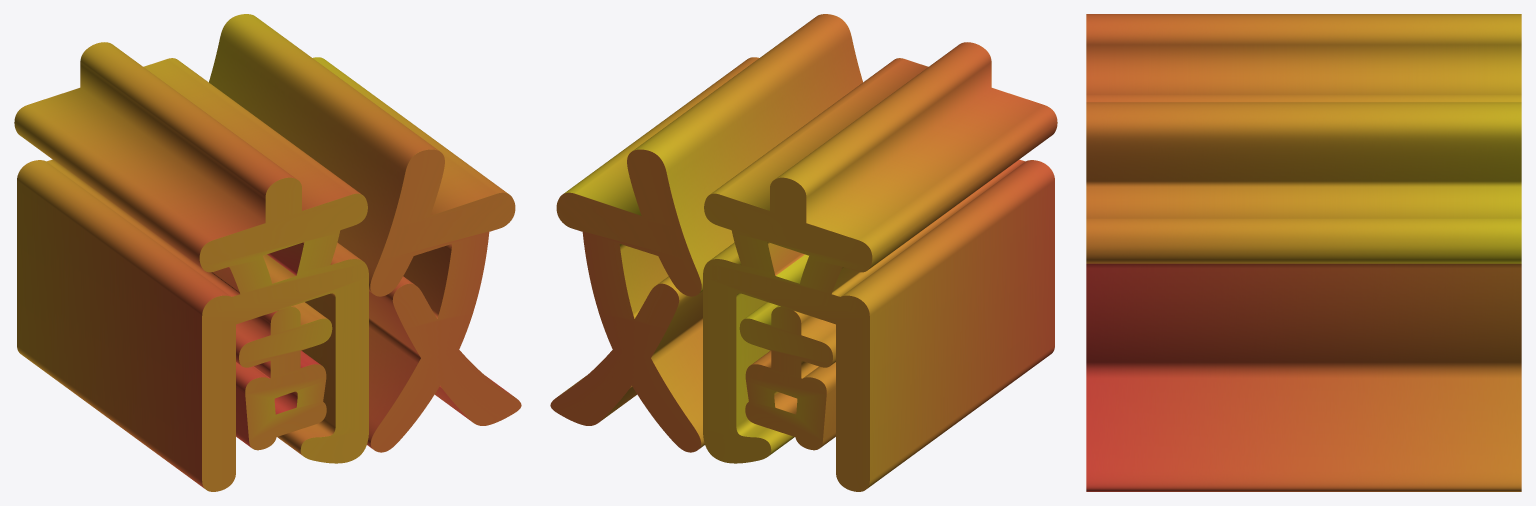
The model's file is enemy.obj.
3 renders of one model, left to right at view 1: azimuth 30°, elevation 25°; view 2: azimuth 150°, elevation 25°; view 3: azimuth 270°, elevation 25°, orthographic. The views are drawn at different scales.
Parts seen in each view (by area): view 1: テキスト; view 2: テキスト; view 3: テキスト.
Part boxes in pixels (left/top/right/bottom): テキスト: left=14, top=14, right=521, bottom=491; テキスト: left=550, top=14, right=1057, bottom=491; テキスト: left=1086, top=14, right=1521, bottom=491.
Size of the model in its own units: 1.94 by 1.72 by 1.93.
1 material, 1 textured.
